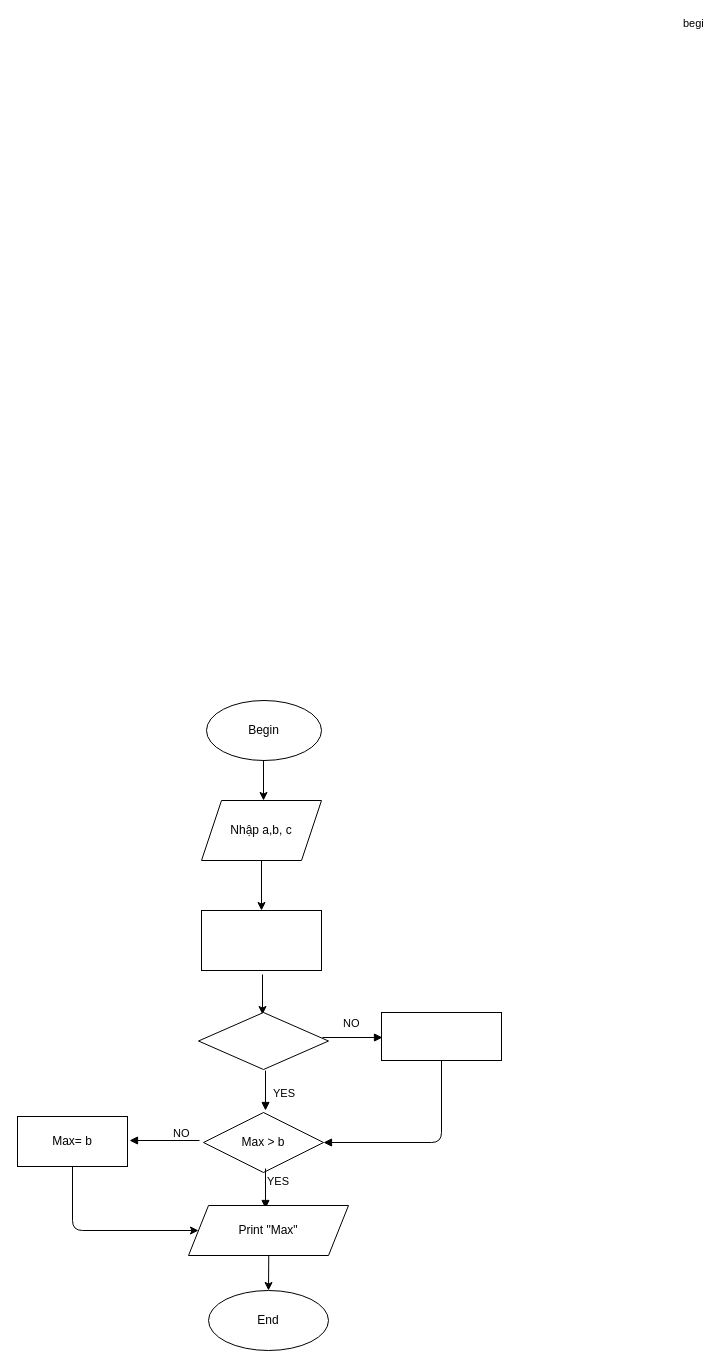
This 722x1368 diagram has some shape labels left out. The shapes that lost their labels are listed below. From the top down, each one's centre as x and y in pixels, then its label:
pixel 261 940: Max = a
pixel 263 1041: Max > c
pixel 441 1036: Max = c
